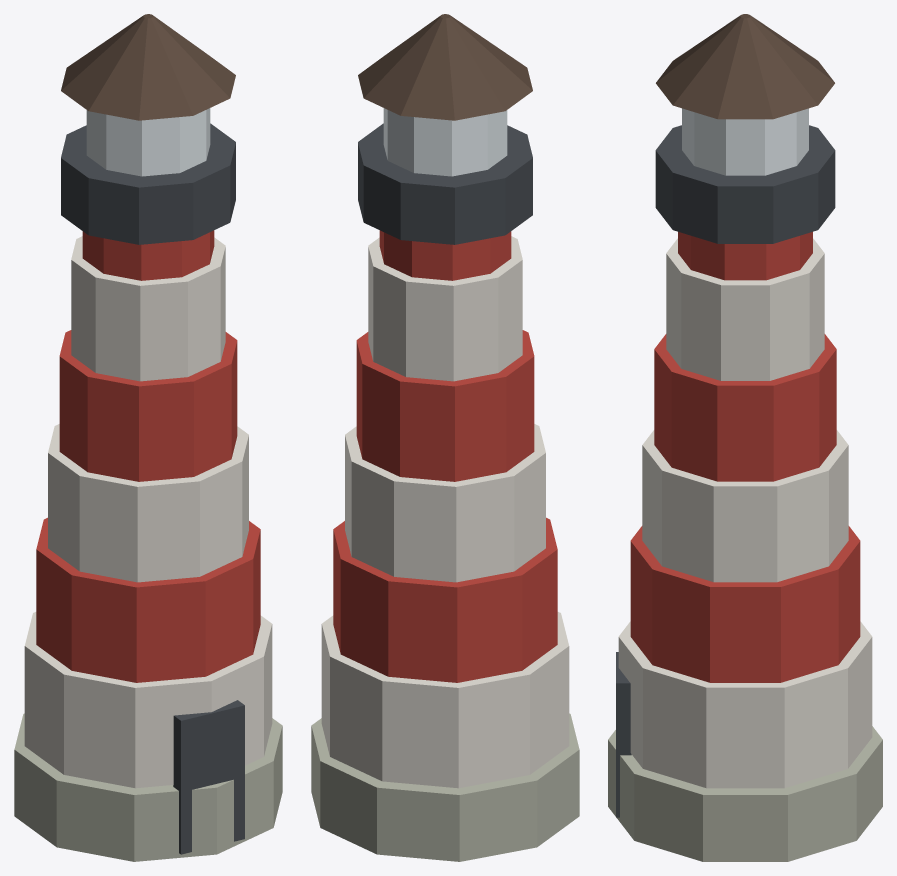
File: loc_cc_bld_nauset.glb
3 renders of one model, left to right at view 1: azimuth 30°, elevation 25°; view 2: azimuth 150°, elevation 25°; view 3: azimuth 270°, elevation 25°, orthographic.
Parts seen in each view (by area): view 1: Cone.002, Cone.001, Cone.003, Cone, Cone.004, Cone.005, Cone.007, Cone.009, door, Cone.008, Cone.006; view 2: Cone.001, Cone.002, Cone.003, Cone, Cone.004, Cone.005, Cone.007, Cone.009, Cone.008, Cone.006; view 3: Cone.001, Cone.002, Cone.003, Cone, Cone.004, Cone.005, Cone.007, Cone.009, Cone.008, Cone.006, door.
Part boxes in pixels (<box>): Cone.002: <box>36,517,260,682</box>; Cone.001: <box>24,612,272,788</box>; Cone.003: <box>48,424,248,582</box>; Cone: <box>14,713,282,861</box>; Cone.004: <box>59,330,237,481</box>; Cone.005: <box>71,236,225,381</box>; Cone.007: <box>61,123,235,244</box>; Cone.009: <box>61,14,235,120</box>; door: <box>173,700,244,854</box>; Cone.008: <box>86,108,210,176</box>; Cone.006: <box>82,230,214,280</box>; Cone.001: <box>321,612,569,788</box>; Cone.002: <box>333,517,557,682</box>; Cone.003: <box>345,424,545,582</box>; Cone: <box>311,713,579,861</box>; Cone.004: <box>356,330,534,481</box>; Cone.005: <box>368,236,522,381</box>; Cone.007: <box>358,123,532,244</box>; Cone.009: <box>358,14,532,120</box>; Cone.008: <box>383,108,507,176</box>; Cone.006: <box>379,230,511,280</box>; Cone.001: <box>618,621,872,788</box>; Cone.002: <box>630,526,860,682</box>; Cone.003: <box>642,430,848,582</box>; Cone: <box>608,726,882,861</box>; Cone.004: <box>654,334,836,481</box>; Cone.005: <box>666,238,824,380</box>; Cone.007: <box>655,125,835,243</box>; Cone.009: <box>656,14,834,119</box>; Cone.008: <box>682,108,808,175</box>; Cone.006: <box>678,232,812,280</box>; door: <box>616,652,631,817</box>.
Bounding box in the file's own units: 0.9891 × 3.3 × 1.04.
